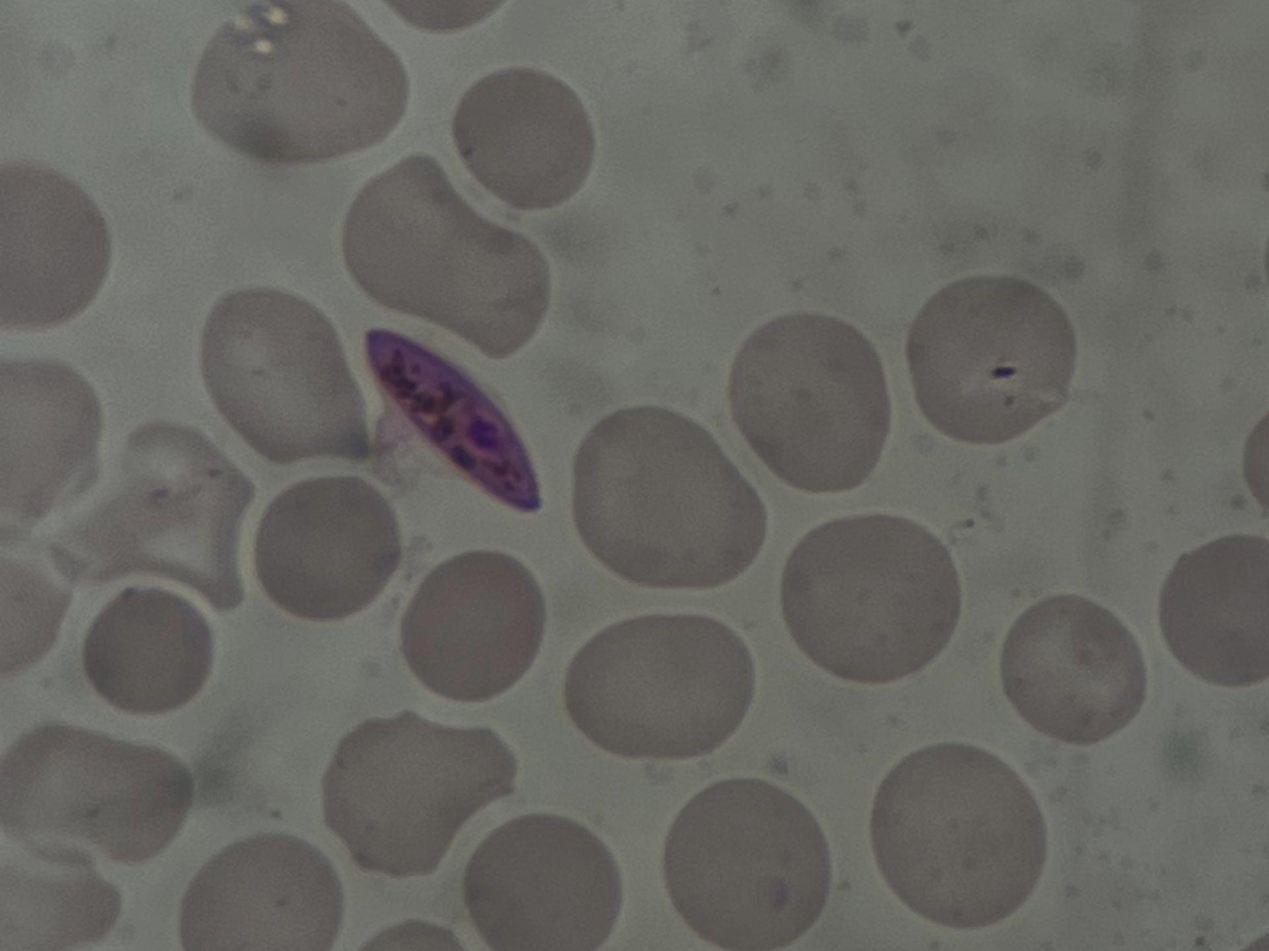Infected: (353, 318, 543, 517)
Uninfected: (346, 155, 549, 355), (57, 419, 257, 608), (189, 0, 414, 165), (571, 402, 771, 586), (868, 737, 1047, 928), (773, 516, 966, 689), (198, 285, 373, 467), (324, 714, 520, 875), (908, 269, 1080, 449), (661, 781, 836, 951), (723, 309, 883, 492), (564, 609, 756, 756), (0, 721, 187, 865), (996, 587, 1144, 750), (463, 811, 627, 951), (251, 472, 401, 622), (401, 549, 549, 700), (183, 829, 348, 951), (454, 69, 593, 209), (79, 585, 213, 715), (1163, 534, 1269, 690)
